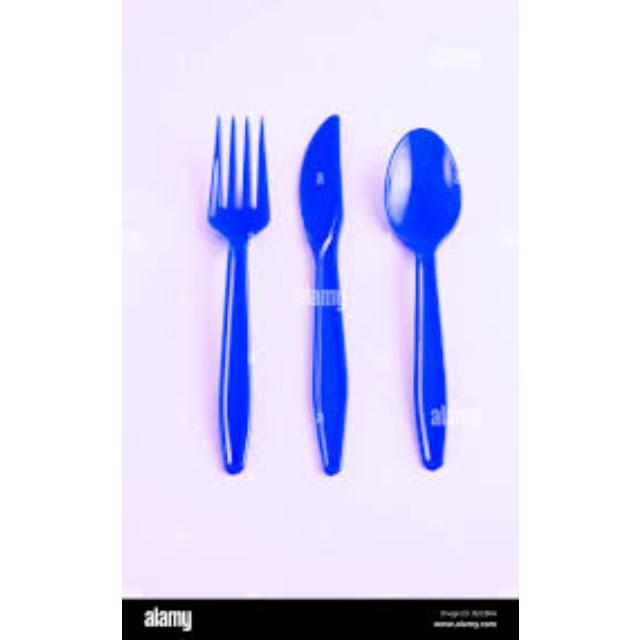Plastico descartable: (384, 127, 463, 473), (207, 115, 271, 477), (296, 115, 352, 481)
